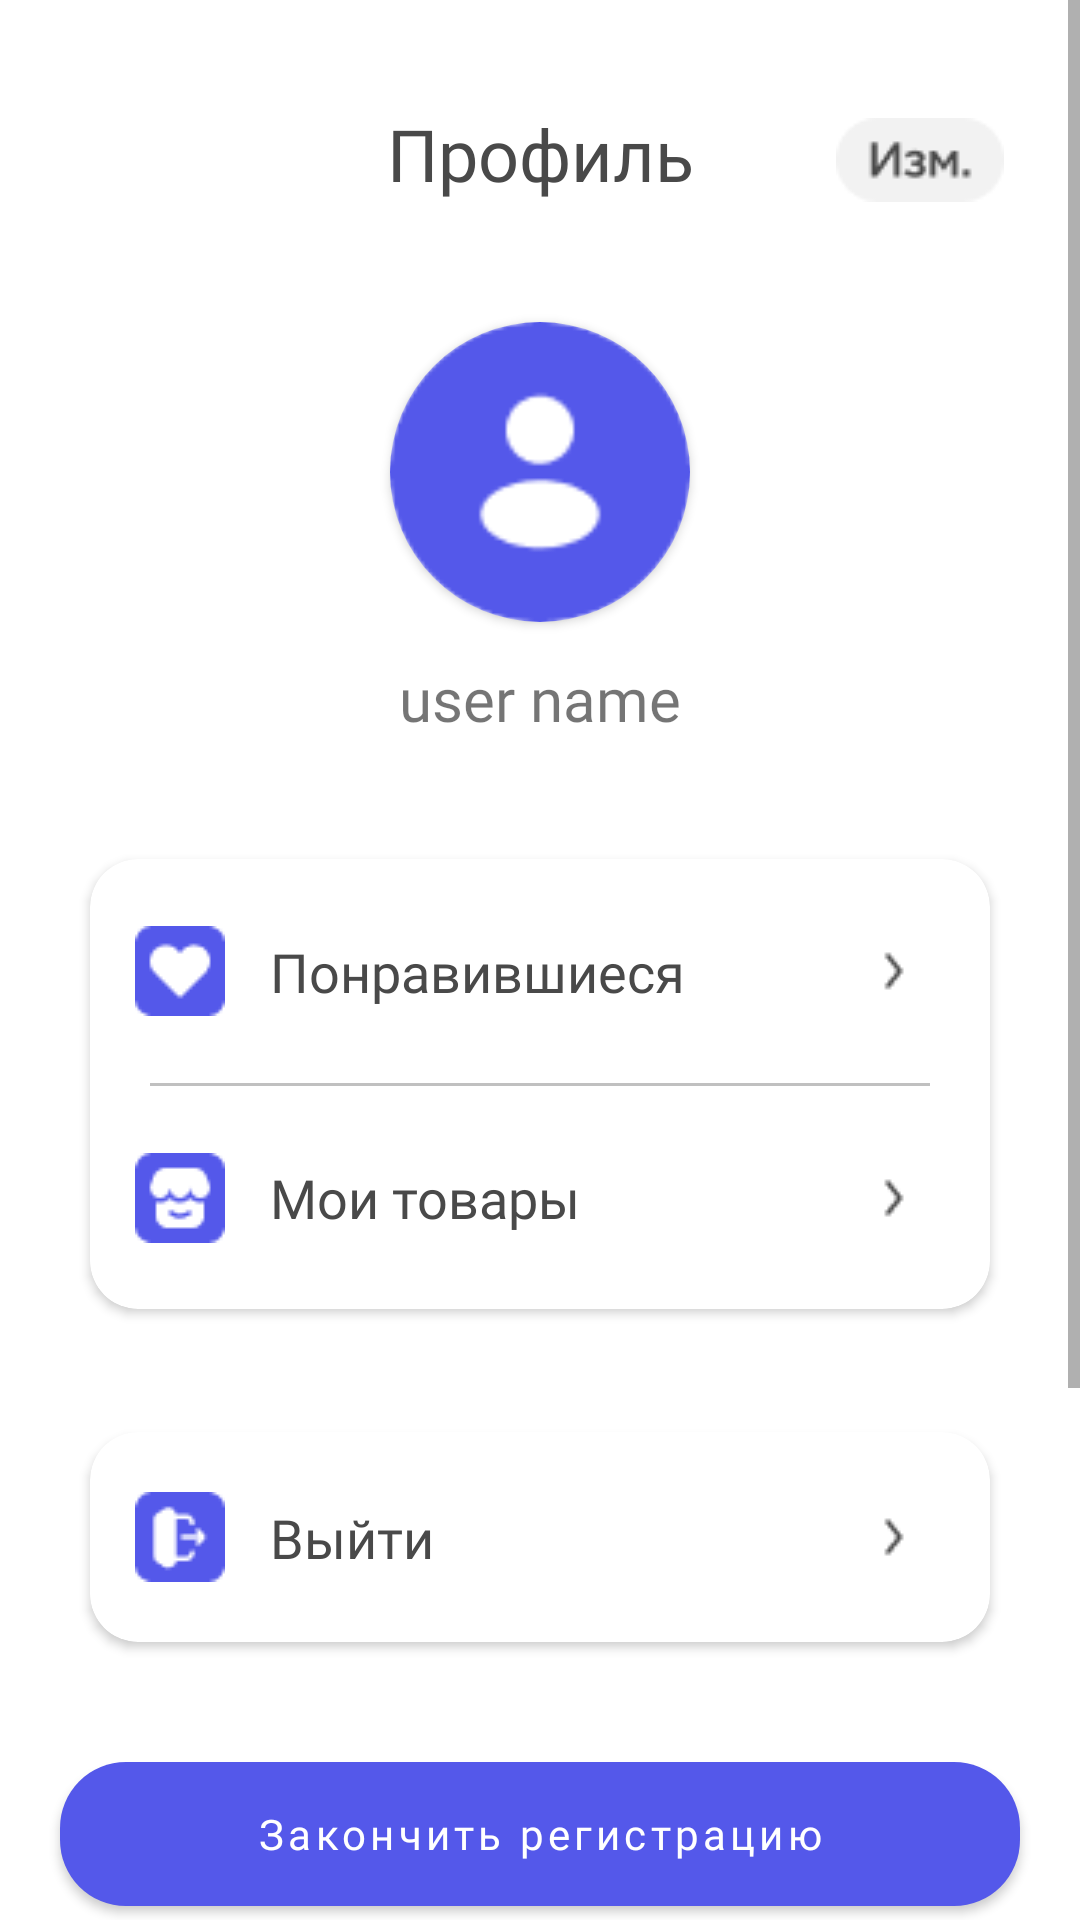

Where icons sit on this 1080 × 1920 app screen, as (x1, y1, x2, y2):
product: (135, 1153, 225, 1243)
profile: (390, 322, 690, 622)
